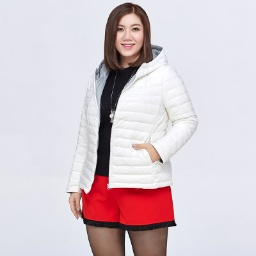face: (97, 2, 158, 68)
